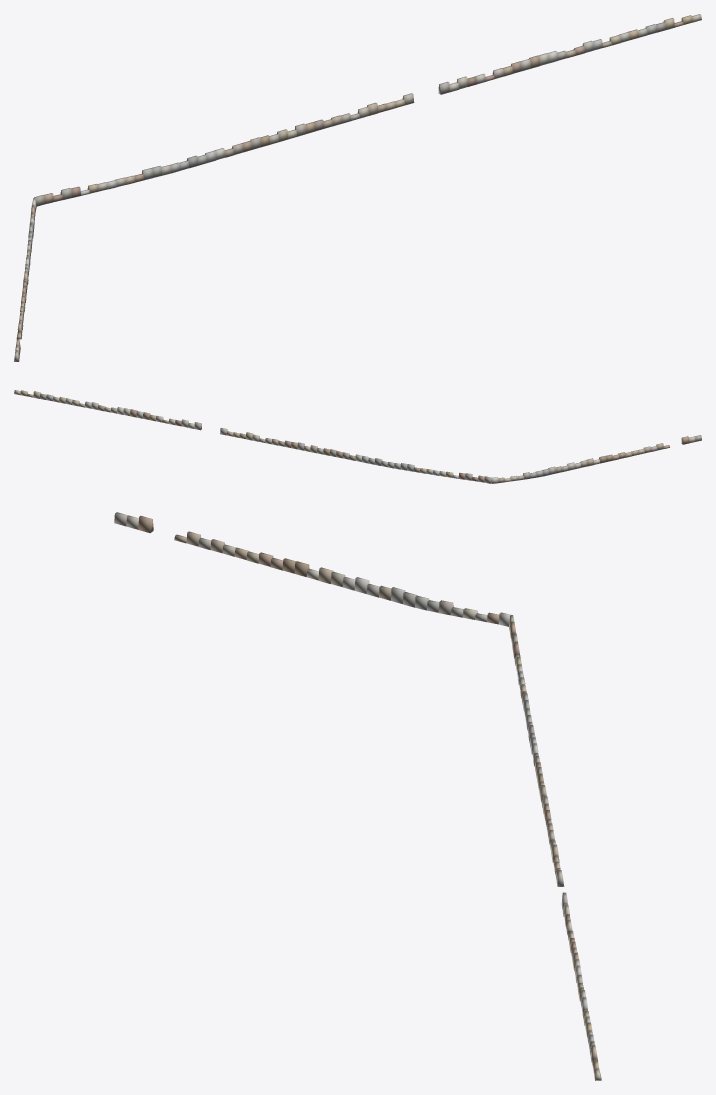
The model's file is farm_-10_-10_collision.glb.
3 renders of one model, top to bottom at view 1: azimuth 30°, elevation 25°; view 2: azimuth 150°, elevation 25°; view 3: azimuth 270°, elevation 25°, orthographic. The views are drawn at different scales.
Visible parts, largest first — view 1: geometry_0; view 2: geometry_0; view 3: geometry_0.
Boxes of the visible parts, box(x1,y1,x2,y2) form: geometry_0: box(14, 14, 701, 361); geometry_0: box(14, 390, 701, 483); geometry_0: box(114, 512, 601, 1080).
Bounding box in the file's own units: 145 × 2.61 × 54.11.
